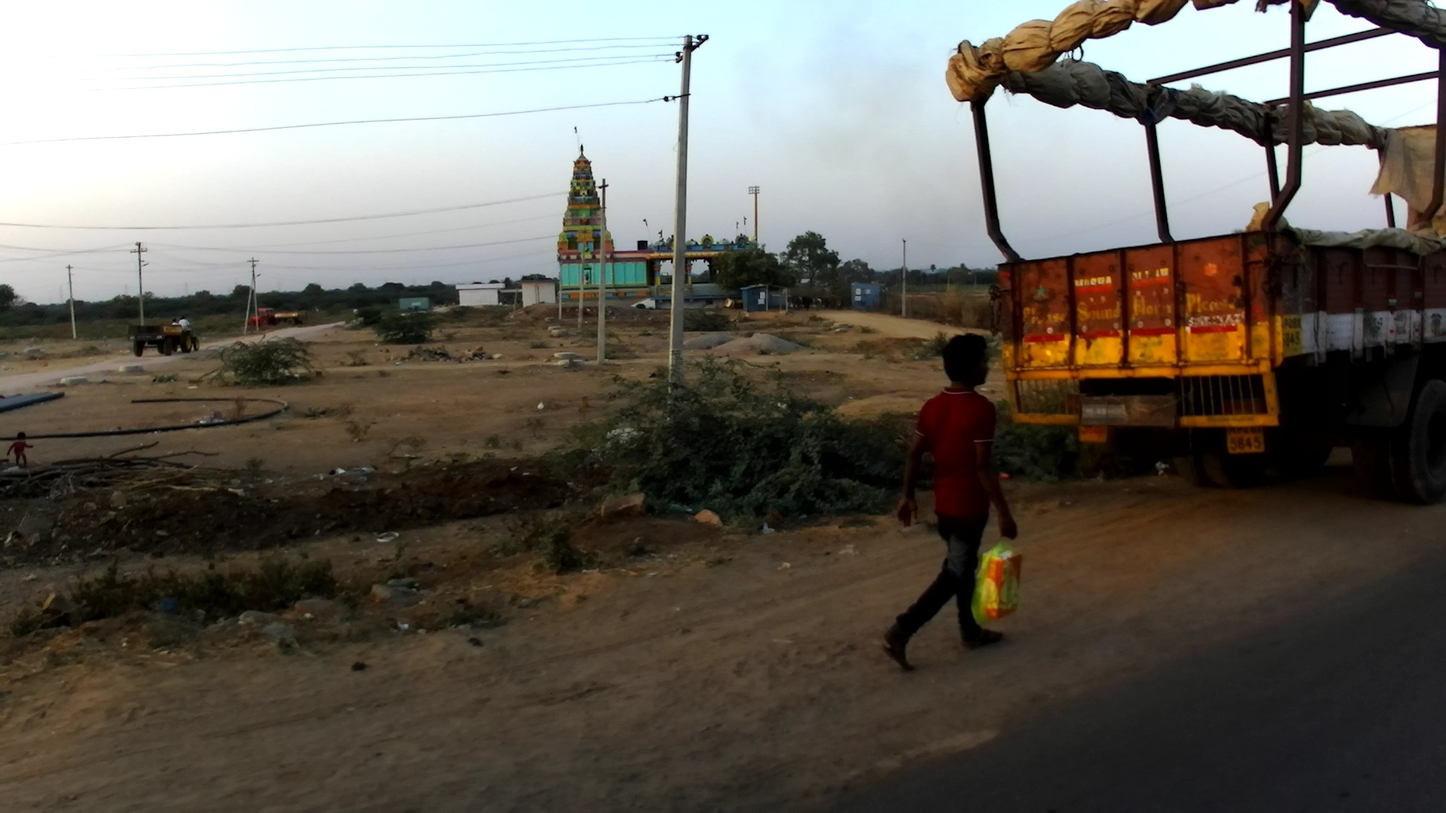person: (877, 331, 1024, 671), (7, 431, 36, 468)
rider: (177, 315, 191, 330), (171, 317, 179, 327)
truck: (947, 1, 1446, 507), (247, 308, 307, 327)
vehicle fallback: (126, 324, 200, 358)
